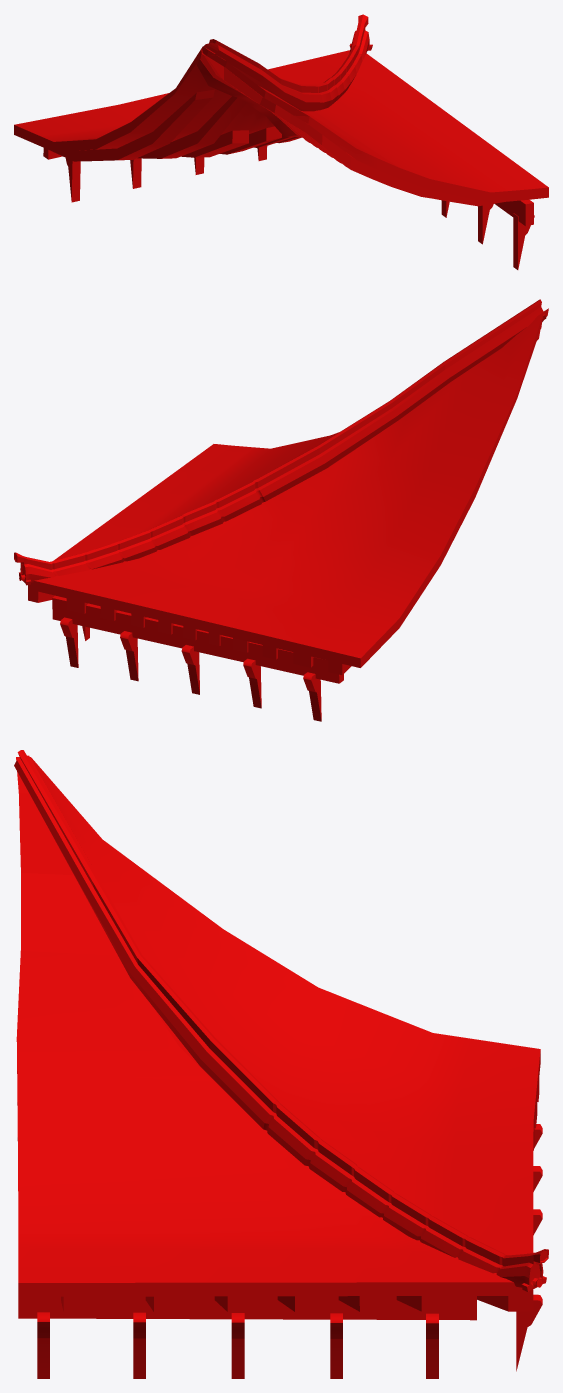
File: finaloutercornercastle.fbx
3 renders of one model, top to bottom at view 1: azimuth 30°, elevation 25°; view 2: azimuth 150°, elevation 25°; view 3: azimuth 270°, elevation 25°, orthographic. The views are drawn at different scales.
Parts seen in each view (by area): view 1: finalcornertubes; view 2: finalcornertubes; view 3: finalcornertubes.
Boxes of the visible parts, bbox=[...] form: finalcornertubes: bbox=[14, 14, 548, 269]; finalcornertubes: bbox=[14, 299, 548, 721]; finalcornertubes: bbox=[14, 750, 548, 1378].
Size of the model in its own units: 318 by 268 by 306.
